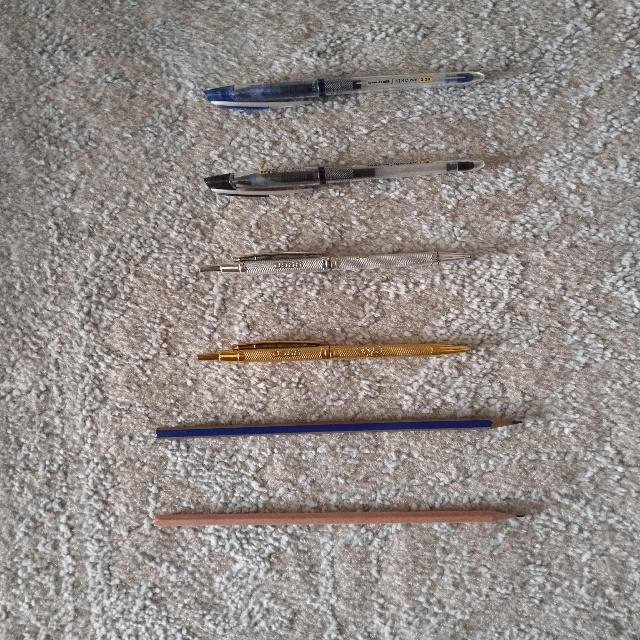pen: (204, 71, 483, 109), (204, 160, 483, 196)
pencil: (156, 418, 517, 438), (154, 510, 523, 526)
signature pen: (200, 252, 470, 273), (197, 341, 469, 361)
